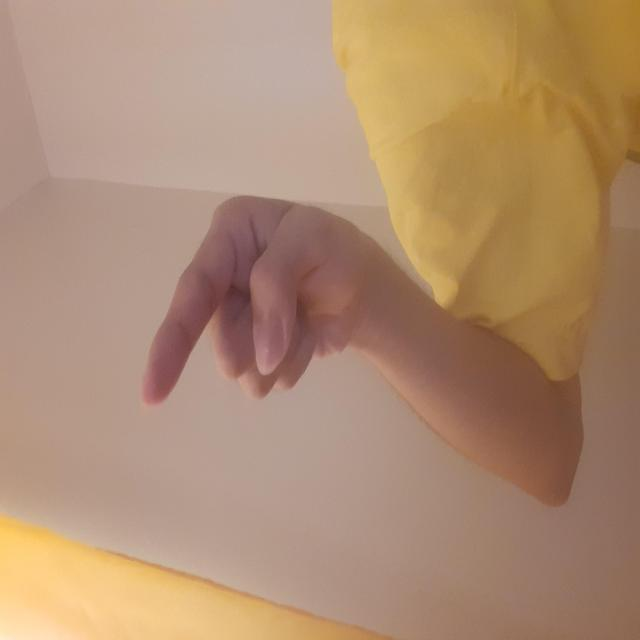Z: (136, 188, 350, 409)
